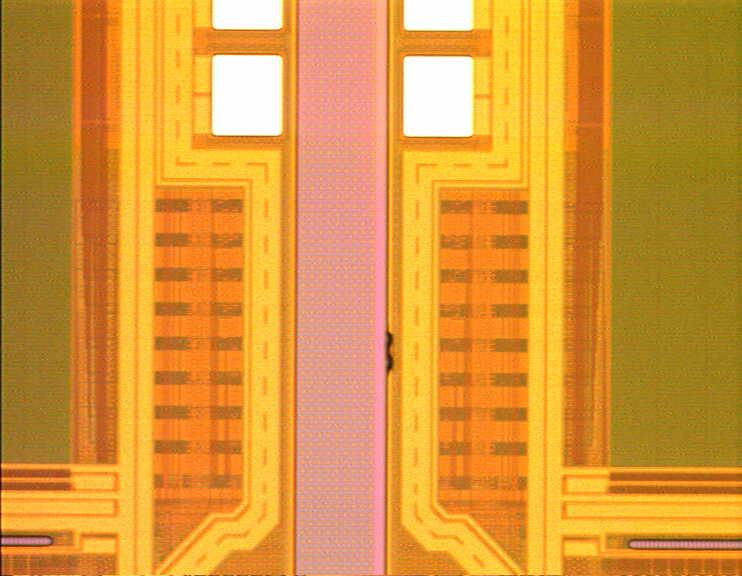PIQ PARTICLE: (377, 328, 398, 377)
